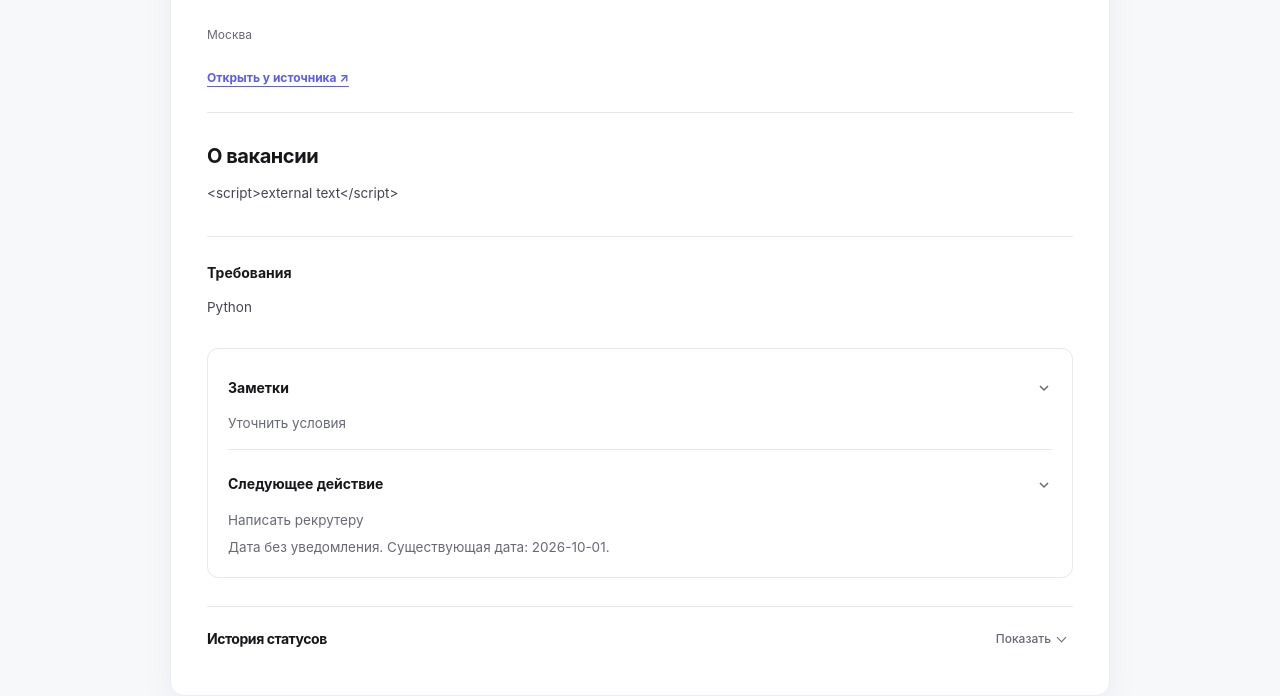
shows an empty legacy history as a normal state
The image size is (1280, 696).
(page scrolled)
Click the button with aria-label "Показать историю статусов".
click(1030, 639)  # box [988,619,1073,659]
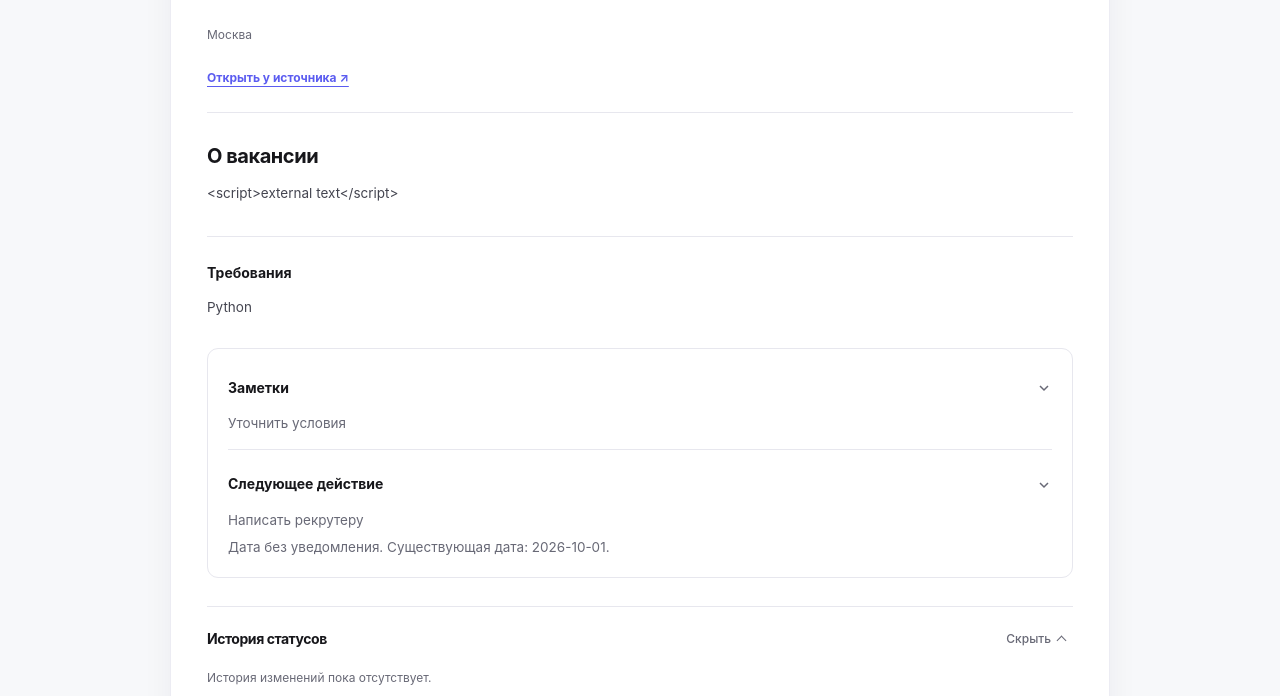
expect the text "История изменений пока отсутствует." is shown: met, box [207,670,432,685]
